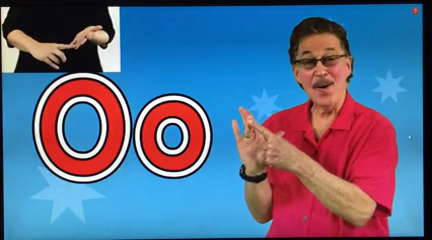O: (228, 103, 299, 178), (31, 23, 103, 70)
